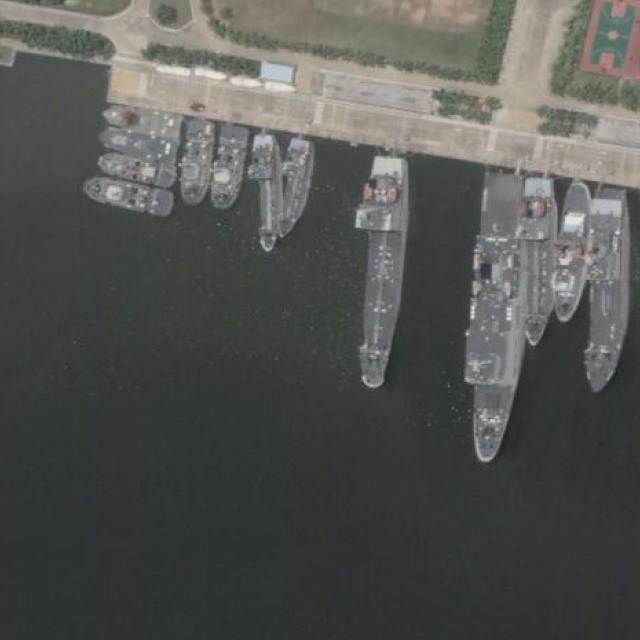Landing: (460, 167, 529, 460), (343, 151, 414, 394), (584, 183, 627, 394)
Other Warship: (543, 177, 601, 328), (518, 177, 557, 348), (268, 129, 321, 240), (247, 131, 286, 250), (81, 174, 174, 221), (176, 116, 216, 210), (209, 122, 248, 212), (94, 150, 178, 187), (96, 127, 182, 160), (100, 107, 184, 138)
